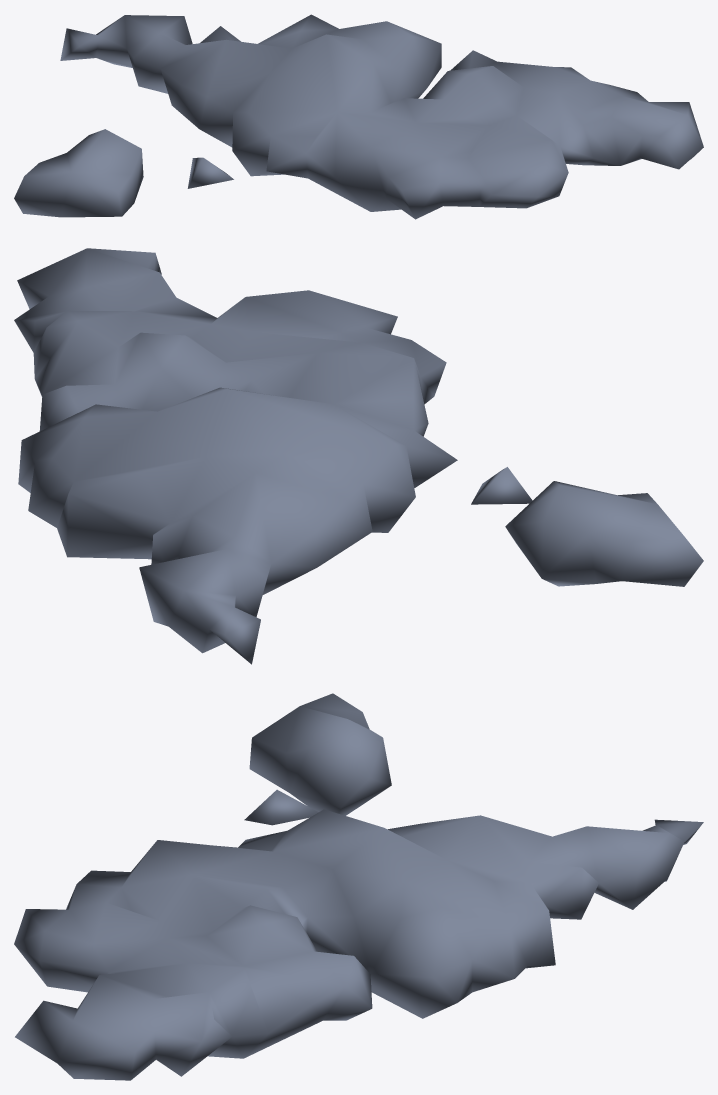
File: Cloud_2.dae
3 views of the same model, one above another, from view 1: azimuth 30°, elevation 25°; view 2: azimuth 150°, elevation 25°; view 3: azimuth 270°, elevation 25° (orthographic). The views are drawn at different scales.
Visible parts, largest first — view 1: Mball.068; view 2: Mball.068; view 3: Mball.068.
Part boxes in pixels (x1,y1,x2,y2): Mball.068: (14,14,703,219); Mball.068: (14,248,703,664); Mball.068: (14,693,703,1080).
Bounding box in the file's own units: 17.45 × 14.32 × 3.62.
